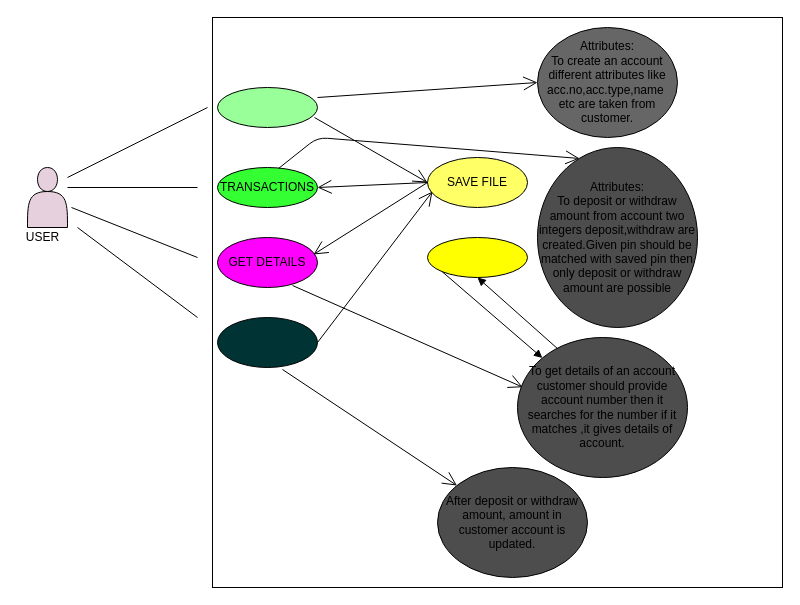
The diagram is 800 pixels wide and 605 high, and some of its shapes have lost their labels. Each missing label, with the box of its shape:
CREATE ACCONT: (216, 86, 318, 128)
READ FROM FILE: (426, 236, 528, 278)
UPDATE AFTER TRANSACTION: (216, 316, 318, 368)
